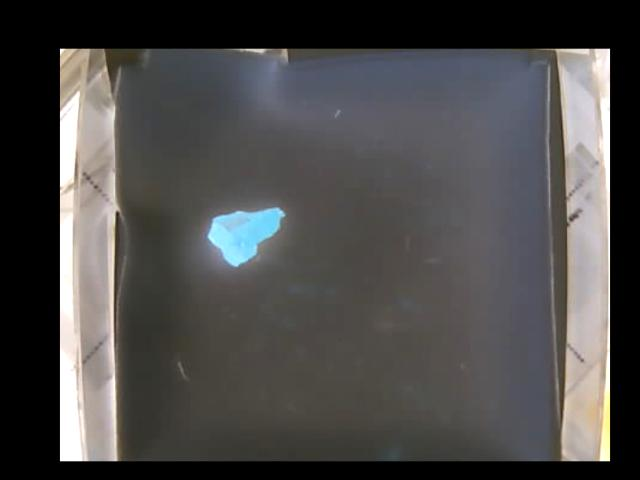Brisk: (208, 203, 284, 265)
